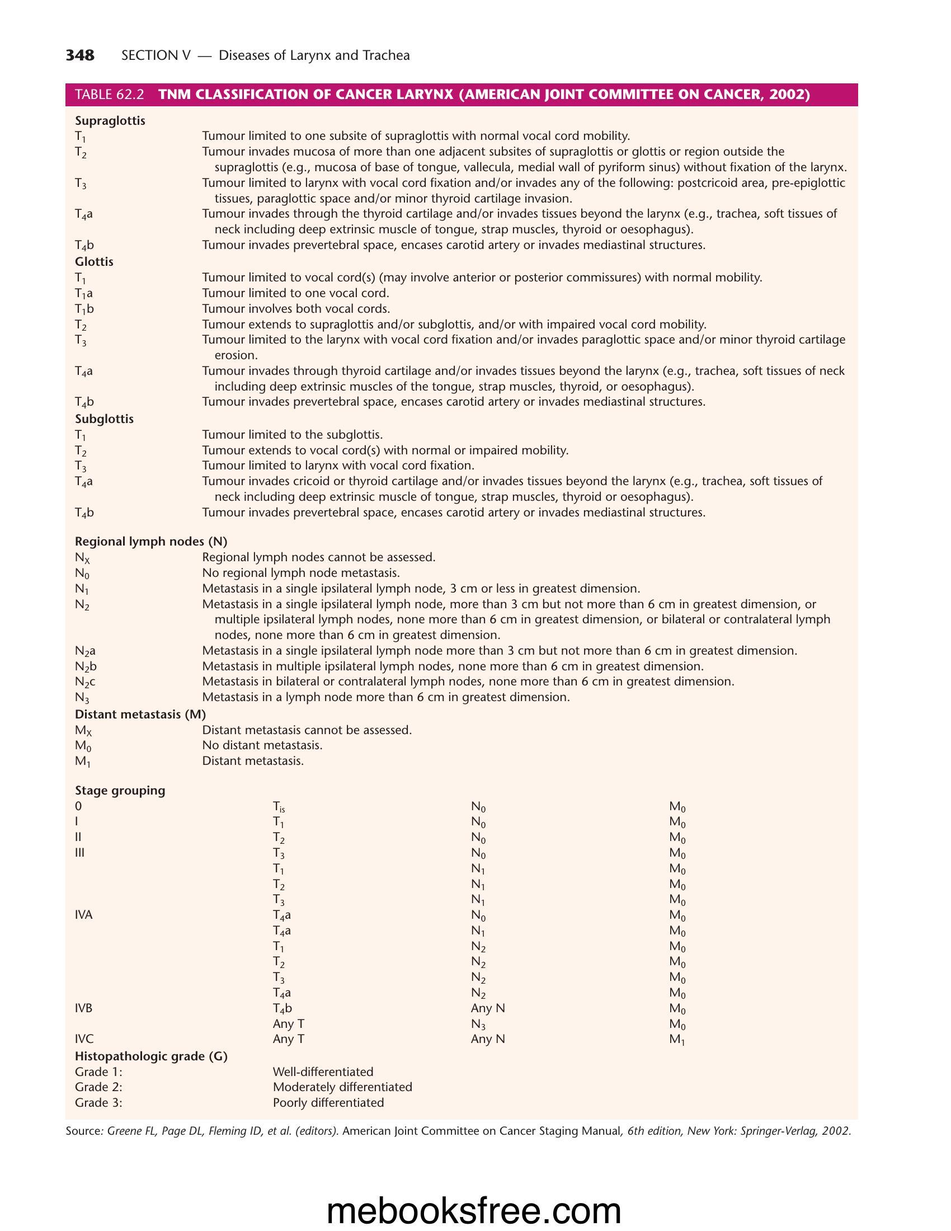caption: (73, 88, 812, 104)
header: (121, 48, 410, 65)
table: (65, 106, 857, 1147)
